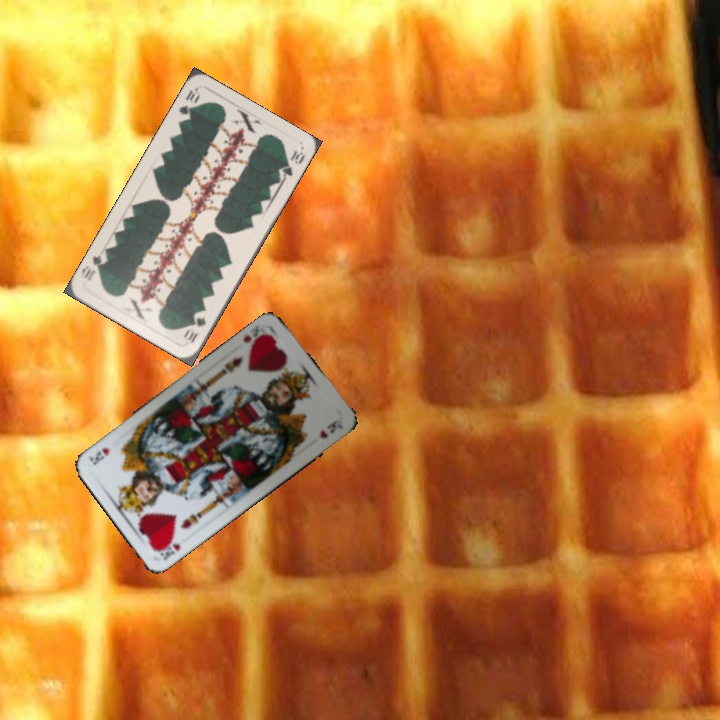G10: (175, 85, 203, 124), (181, 313, 208, 346)
HK: (154, 536, 183, 563), (239, 324, 261, 346)
